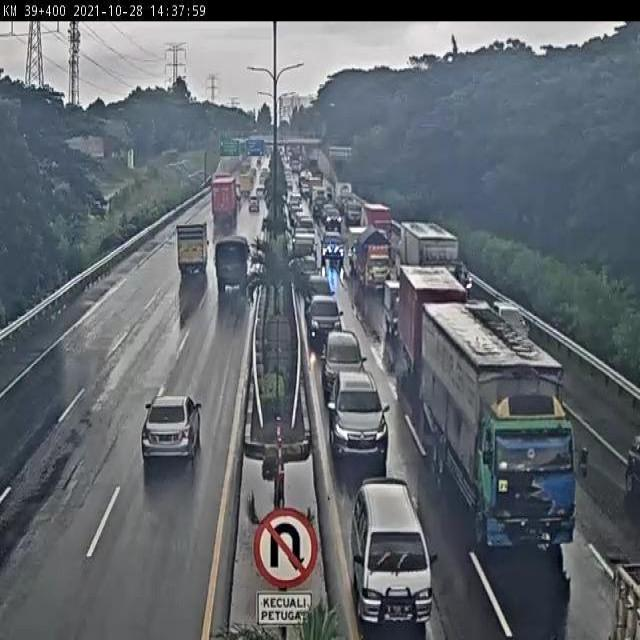car: (412, 283, 583, 561), (346, 470, 440, 640), (326, 361, 407, 479), (135, 385, 205, 475), (319, 327, 378, 404), (305, 289, 348, 352), (208, 173, 242, 230), (300, 265, 336, 311), (320, 230, 346, 266), (248, 191, 262, 220), (72, 560, 73, 561)
small bus: (214, 227, 250, 294)
small truck: (400, 260, 468, 404), (377, 276, 446, 340), (353, 229, 398, 296), (170, 217, 211, 284)
